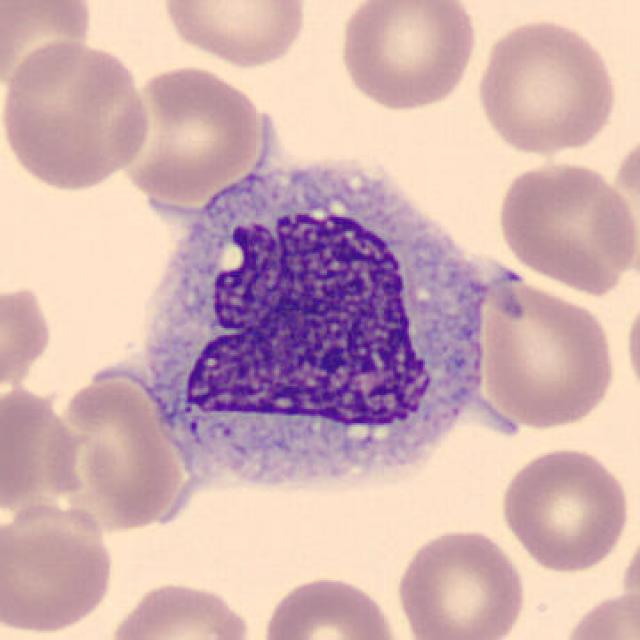Monocyte: (117, 148, 507, 506)
RBC: (0, 35, 153, 194), (468, 273, 618, 432), (41, 372, 185, 534), (471, 14, 621, 159), (114, 61, 266, 202), (492, 155, 636, 296), (496, 442, 633, 574), (334, 0, 480, 113), (0, 498, 117, 638), (391, 523, 529, 640), (158, 0, 311, 71), (256, 571, 405, 640), (103, 576, 256, 640), (0, 0, 96, 100), (0, 277, 55, 400), (558, 587, 640, 640), (618, 520, 640, 640), (622, 286, 640, 407)
